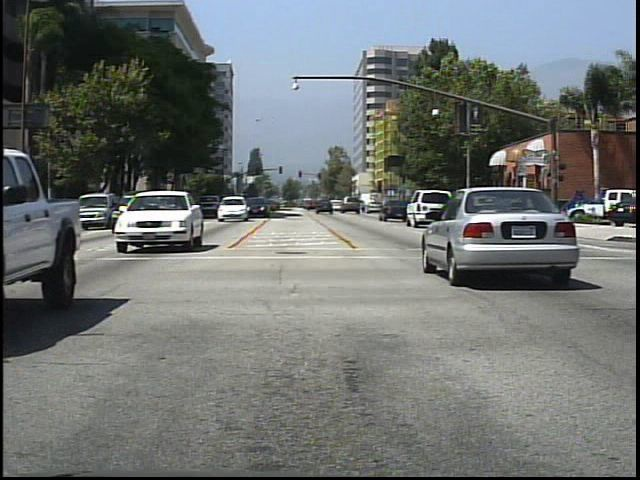person: (492, 191, 512, 229), (453, 193, 470, 228)
